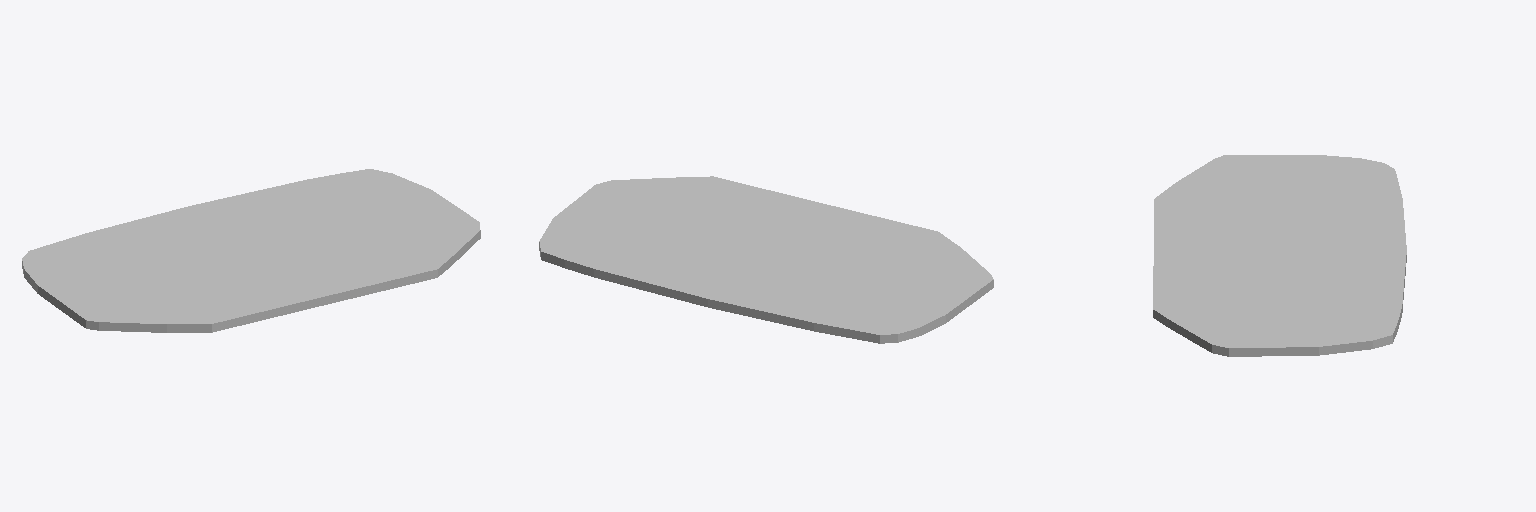
Rendered from side_r_phy.obj.
3 renders of one model, left to right at view 1: azimuth 30°, elevation 25°; view 2: azimuth 150°, elevation 25°; view 3: azimuth 270°, elevation 25°, orthographic.
Parts seen in each view (by area): view 1: SideR_phy; view 2: SideR_phy; view 3: SideR_phy.
Boxes of the visible parts, x1=… form: SideR_phy: x1=22, y1=169, x2=480, y2=332; SideR_phy: x1=539, y1=176, x2=993, y2=343; SideR_phy: x1=1153, y1=155, x2=1406, y2=356.
Size of the model in its own units: 0.4578 by 0.0095 by 0.2539.